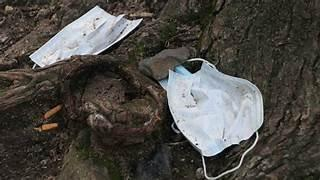Mask: (165, 58, 262, 178), (30, 6, 141, 66)
